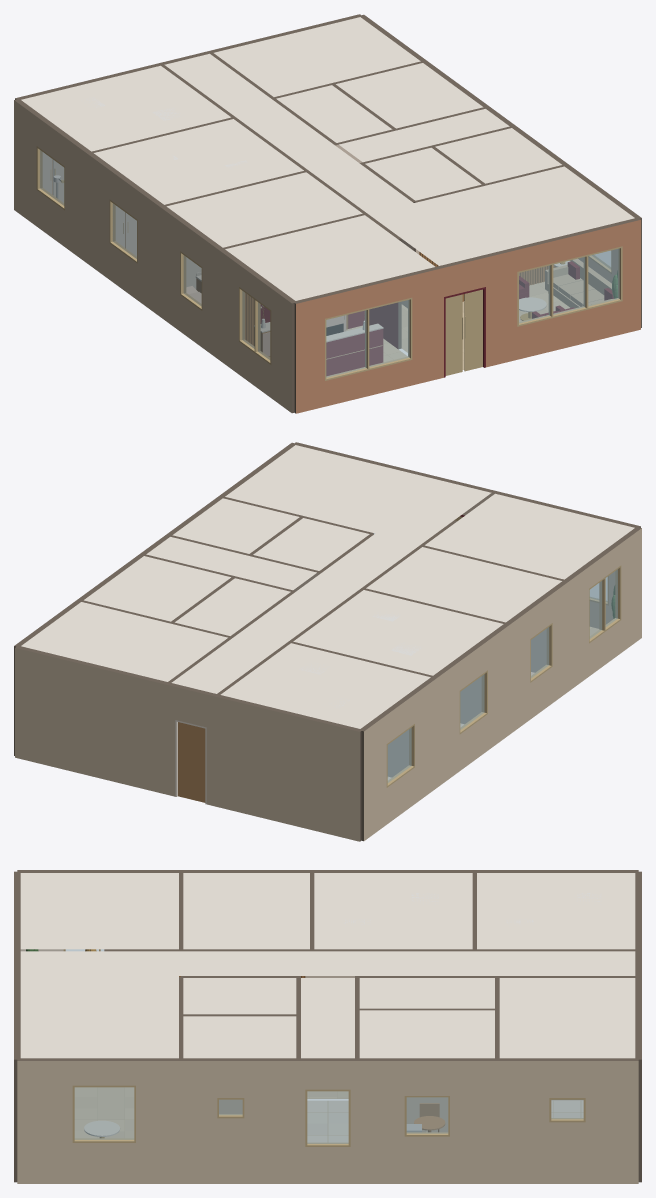
File: predio_completo.obj
3 views of the same model, one above another, from view 1: azimuth 30°, elevation 25°; view 2: azimuth 150°, elevation 25°; view 3: azimuth 270°, elevation 25° (orthographic). The views are drawn at different scales.
Visible parts, largest first — view 1: predio_completo; view 2: predio_completo; view 3: predio_completo.
Boxes of the visible parts, <box> form: predio_completo: <box>14,14,641,413</box>; predio_completo: <box>14,442,641,841</box>; predio_completo: <box>14,870,641,1183</box>.
Bounding box in the file's own units: 10 × 3 × 13.9.
